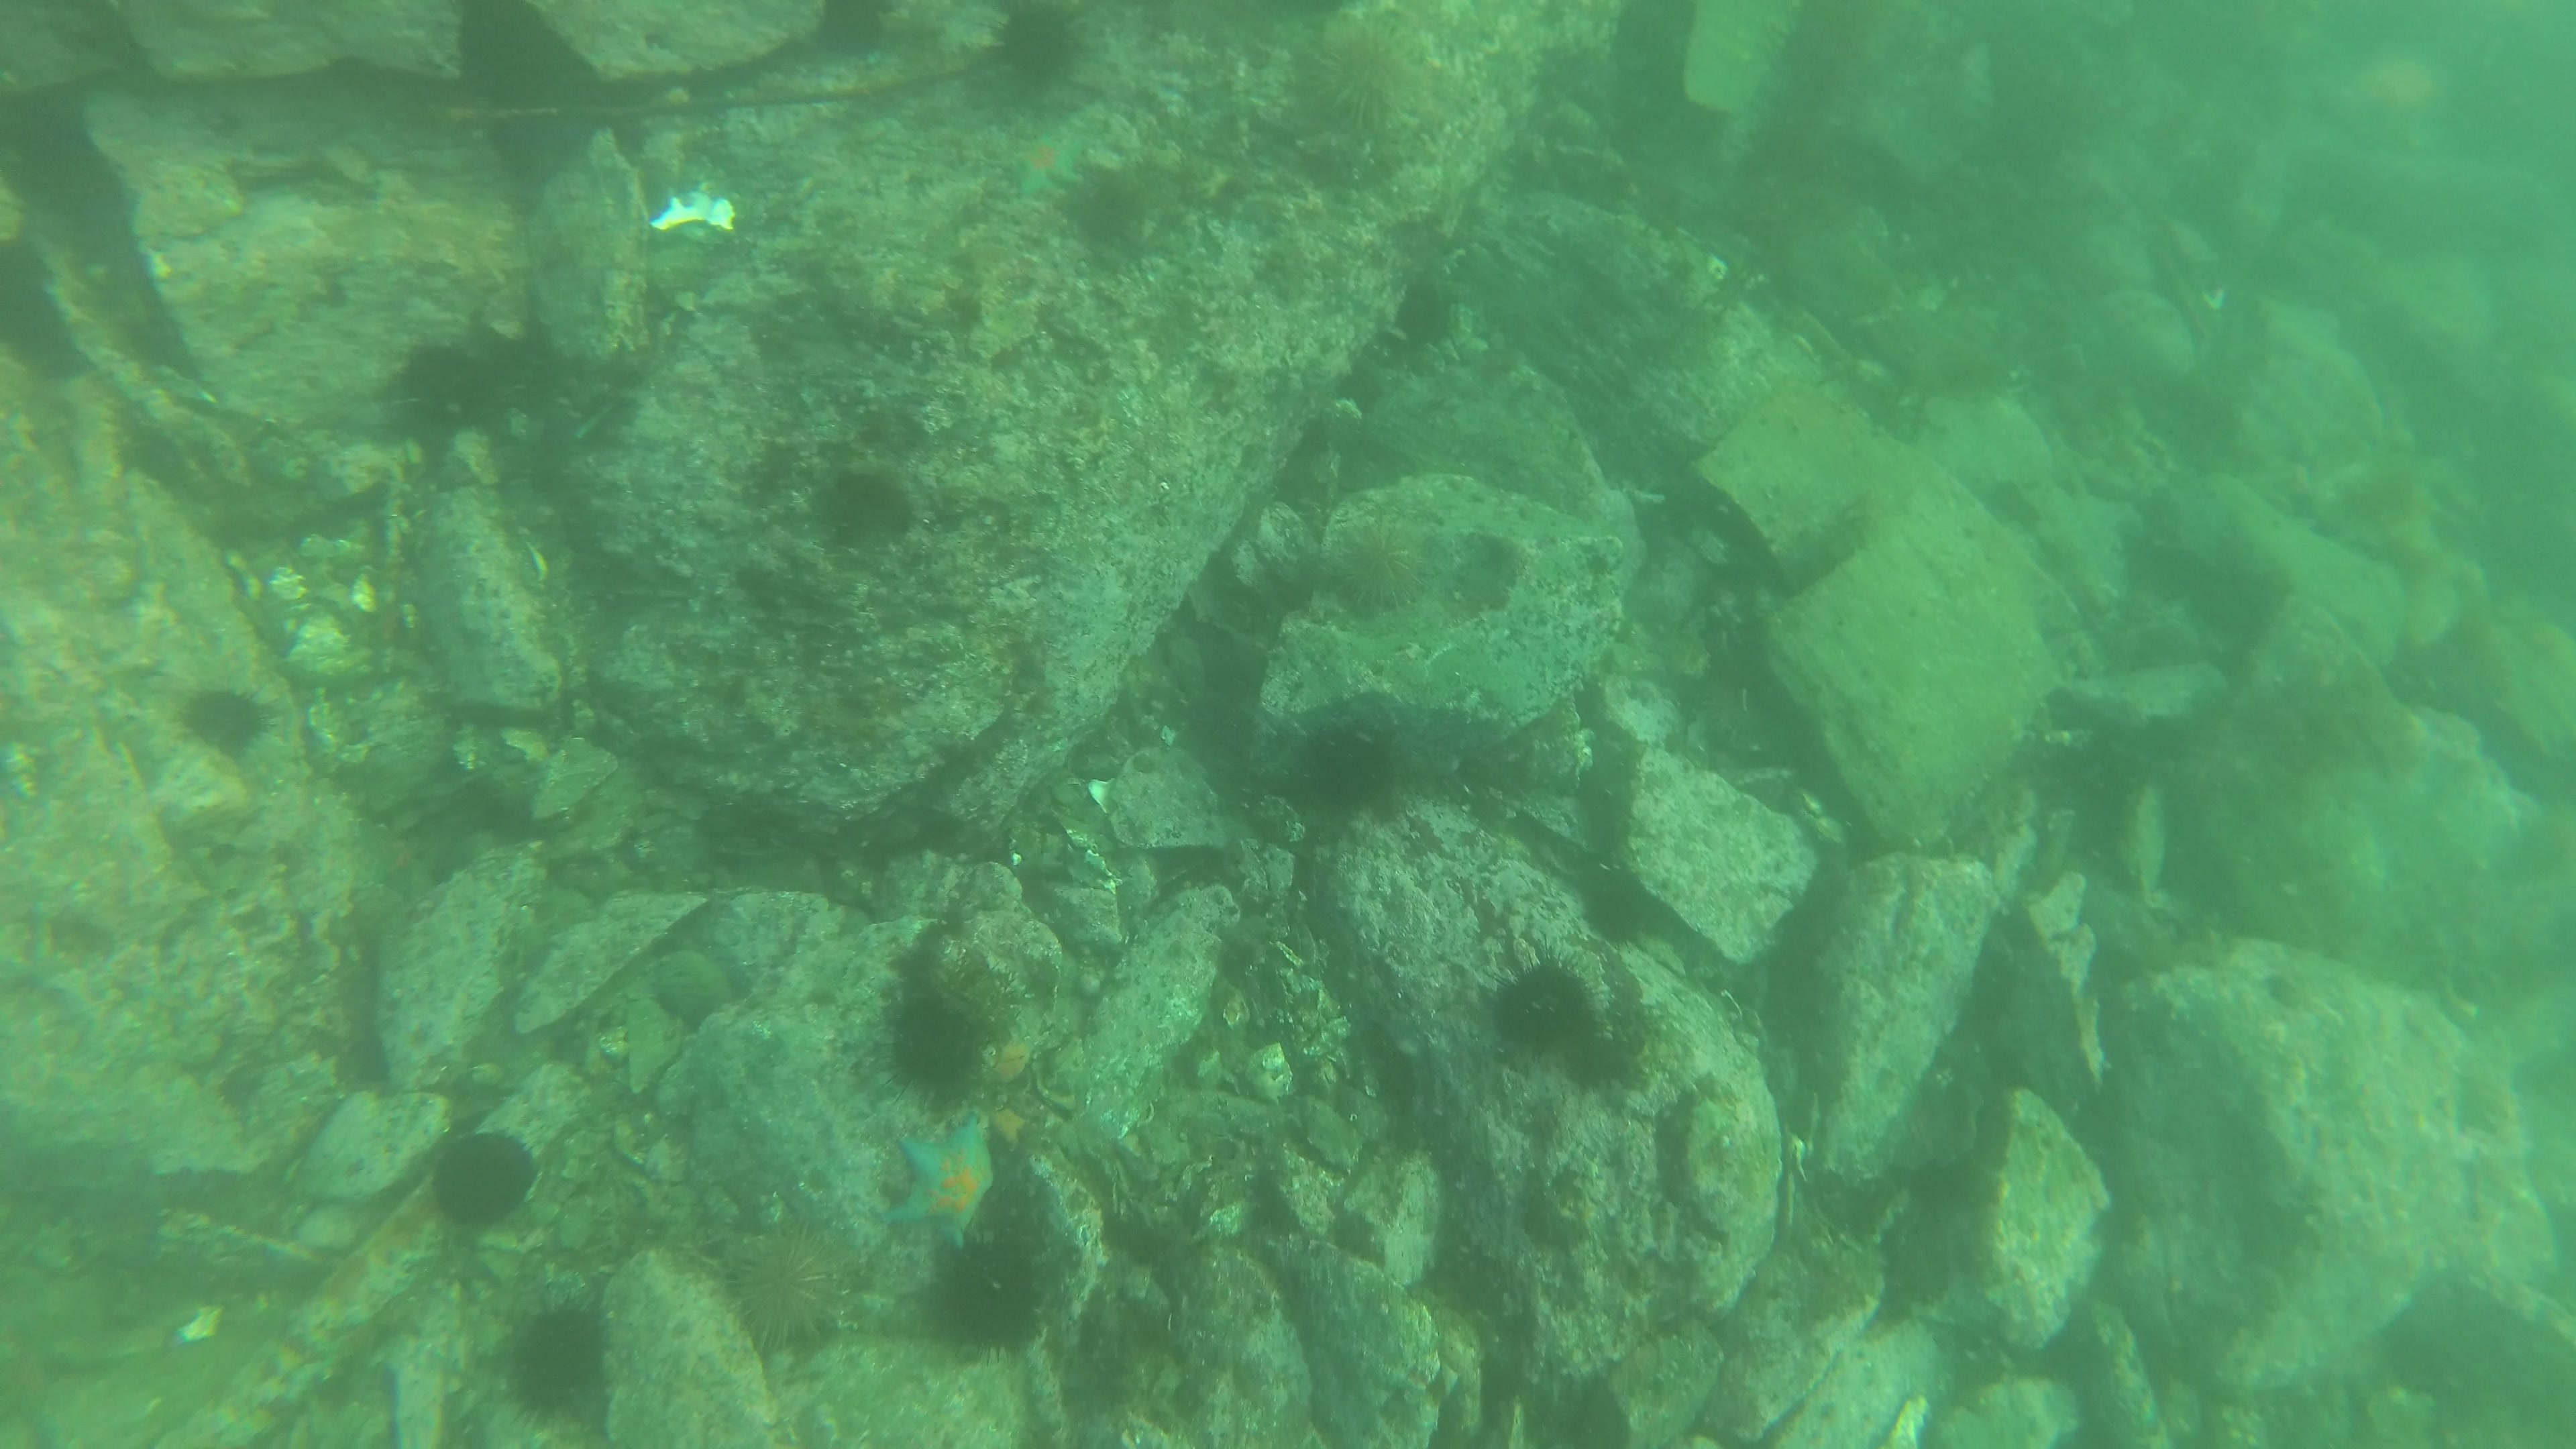echinus: (718, 1212, 853, 1361), (1299, 11, 1438, 147), (1476, 938, 1614, 1074), (927, 1223, 1046, 1366), (497, 1293, 617, 1430), (421, 1123, 550, 1244), (879, 989, 1000, 1108), (1297, 709, 1408, 826), (395, 327, 502, 433), (168, 676, 280, 766), (1320, 517, 1426, 607), (989, 0, 1085, 87)
scallop: (646, 189, 748, 251)
starfish: (874, 1113, 1000, 1249), (989, 111, 1106, 207)
